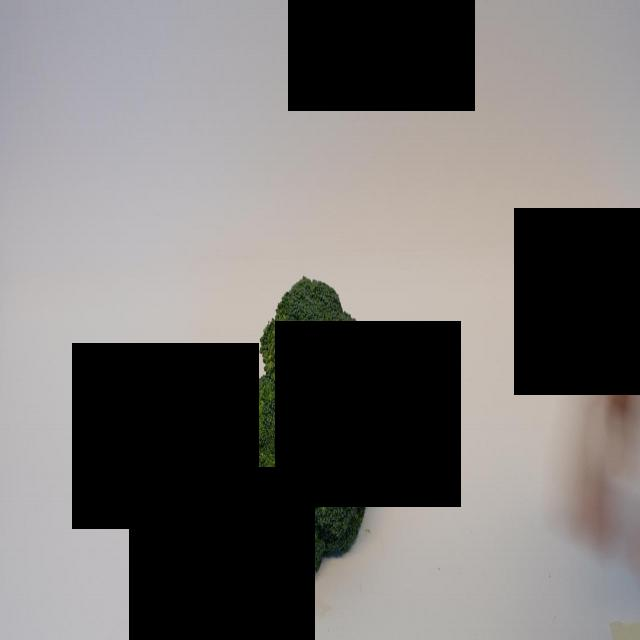broccoli: (217, 277, 389, 589)
